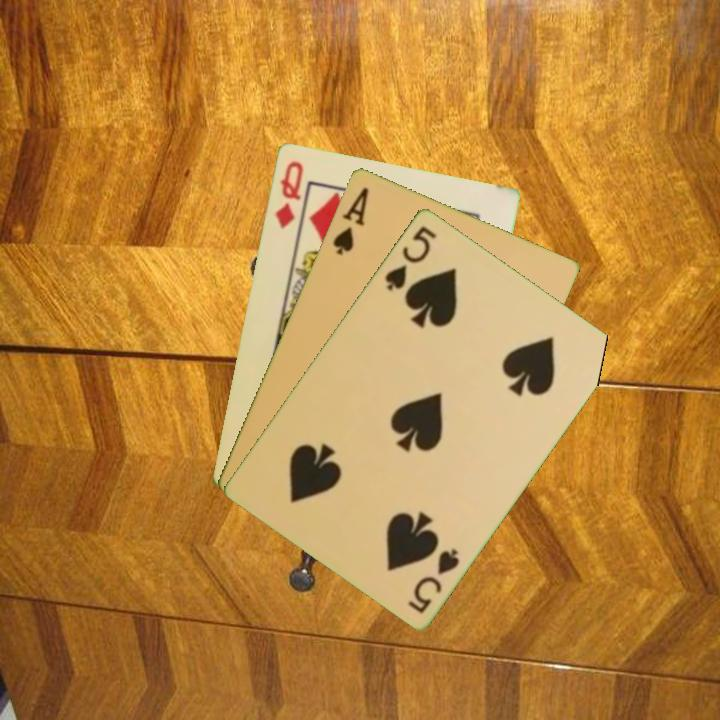5s: (404, 544, 463, 616), (381, 221, 439, 293)
As: (329, 183, 372, 258)
Qd: (271, 157, 306, 231)
